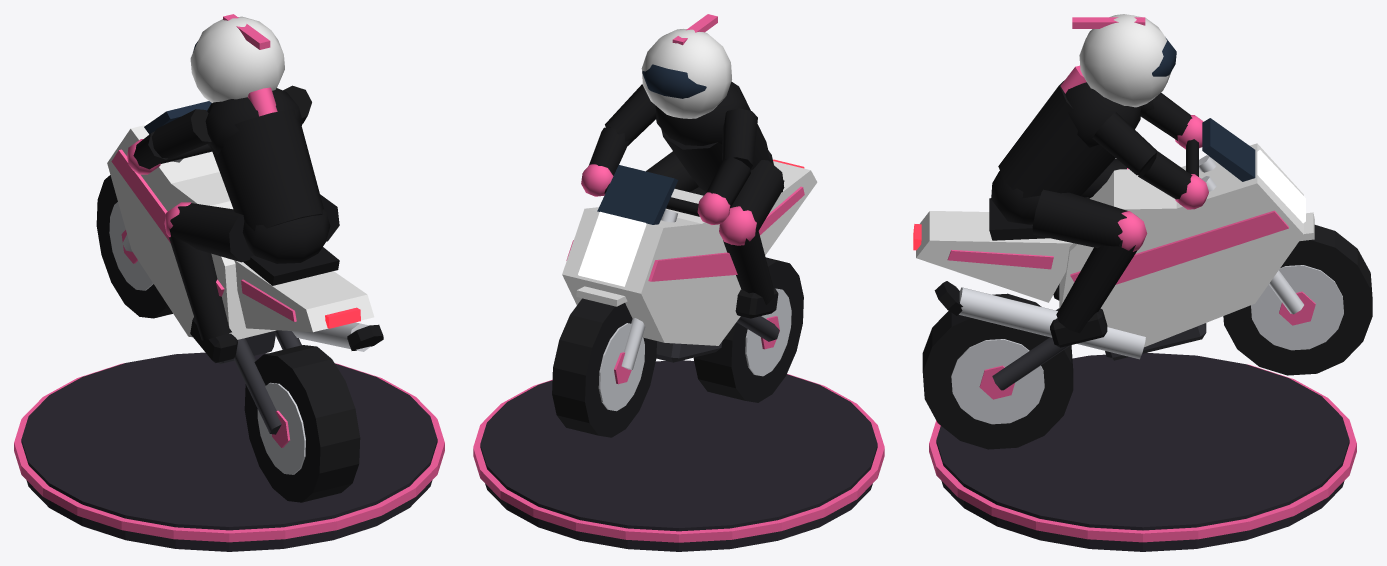
The model's file is knight.glb.
The picture shows the model from 3 angles, left to right: view 1: azimuth 30°, elevation 25°; view 2: azimuth 150°, elevation 25°; view 3: azimuth 270°, elevation 25°; orthographic projection. The views are drawn at different scales.
Parts seen in each view (by area): view 1: knight, wheel_rear, wheel_front; view 2: knight, wheel_front, wheel_rear; view 3: knight, wheel_rear, wheel_front.
Part boxes in pixels (x1=…): knight: x1=14, y1=14, x2=444, y2=551; wheel_rear: x1=244, y1=345, x2=360, y2=502; wheel_front: x1=96, y1=175, x2=172, y2=318; knight: x1=473, y1=14, x2=884, y2=551; wheel_front: x1=552, y1=298, x2=656, y2=437; wheel_rear: x1=693, y1=257, x2=803, y2=402; knight: x1=913, y1=14, x2=1356, y2=551; wheel_rear: x1=922, y1=293, x2=1073, y2=449; wheel_front: x1=1223, y1=225, x2=1372, y2=375.
Size of the model in its own units: 0.704 by 0.8102 by 0.7561.
